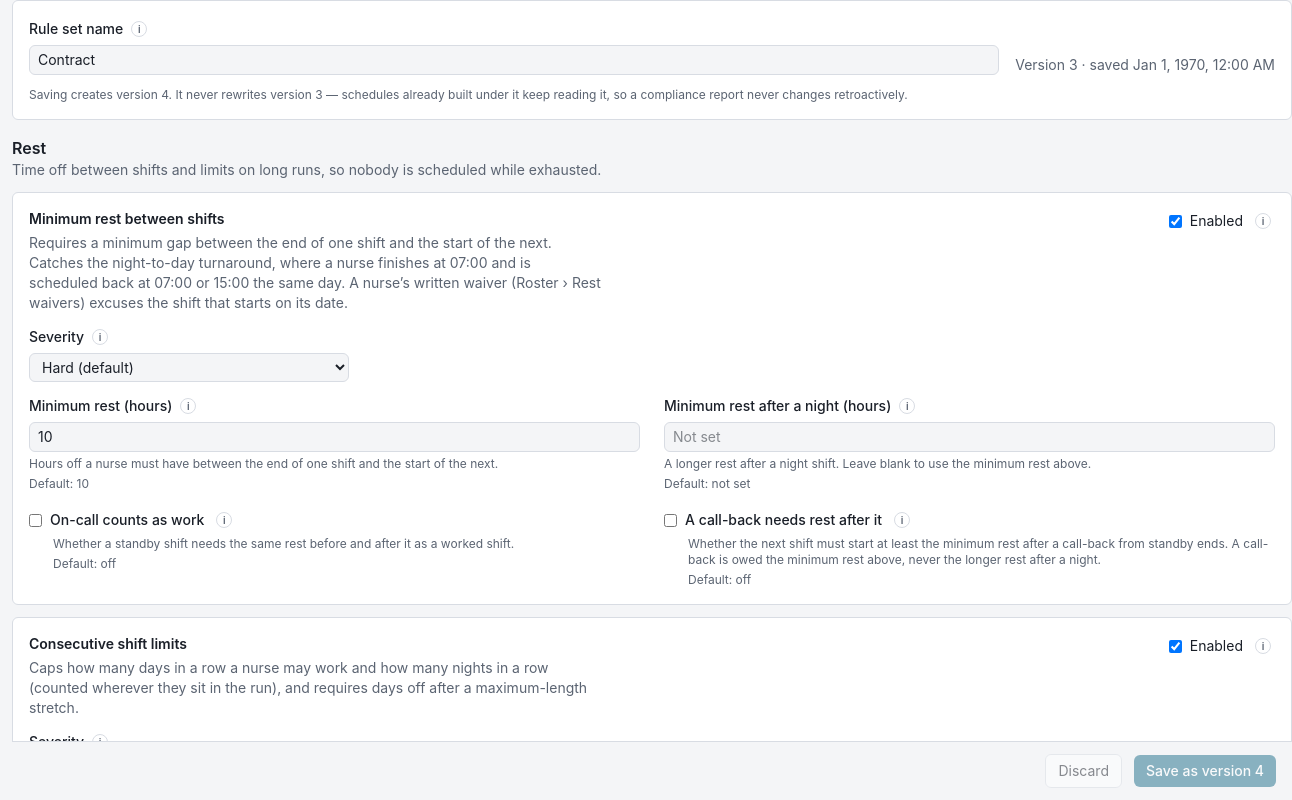
Scenario: editing the contract rules › puts the loaded values back when the manager discards
Replace the text in the number field labelled "Minimum rest (hours)" with "14" at (334, 437), box [29,422,640,452]
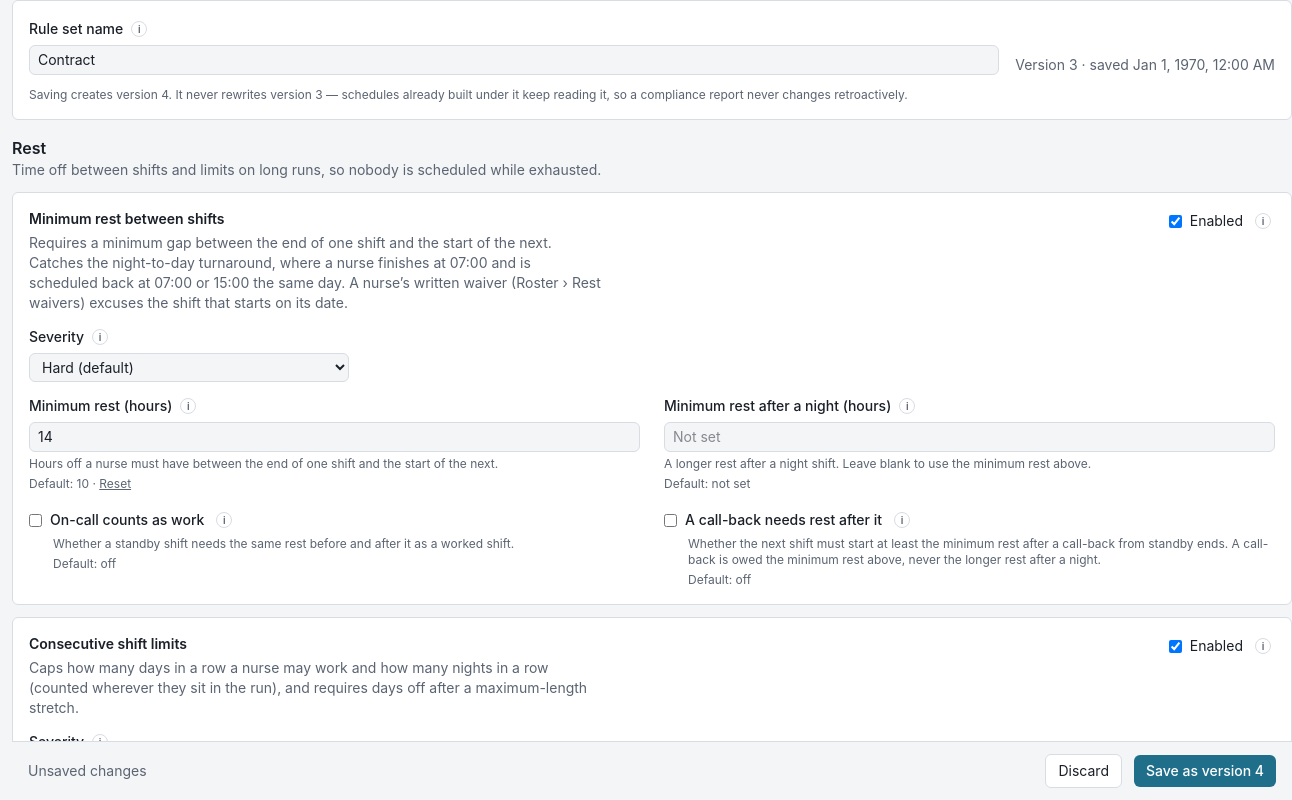
Replace the text in the field with id "rule-set-name" with "Draft" at (514, 60), box [29,45,999,75]
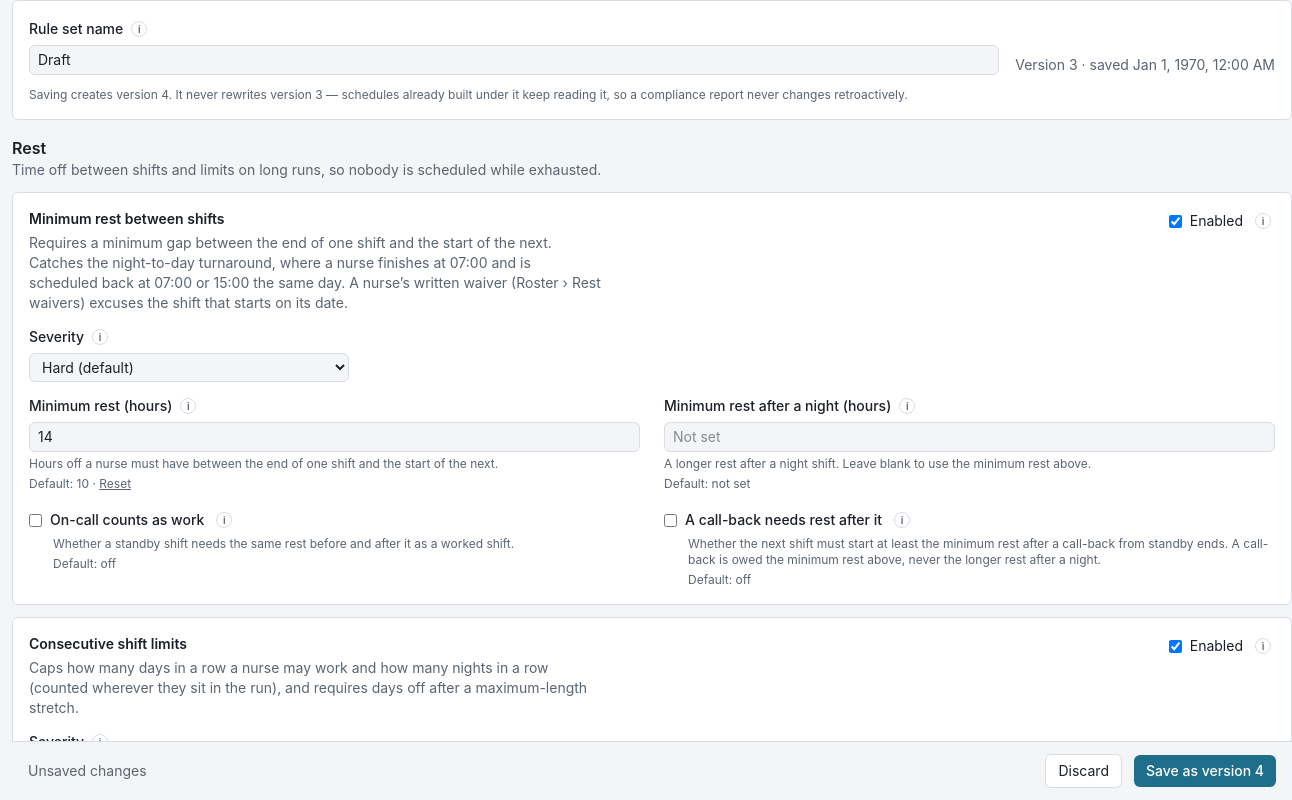
Click the button "Discard" at (1084, 771), box [1046,754,1122,788]
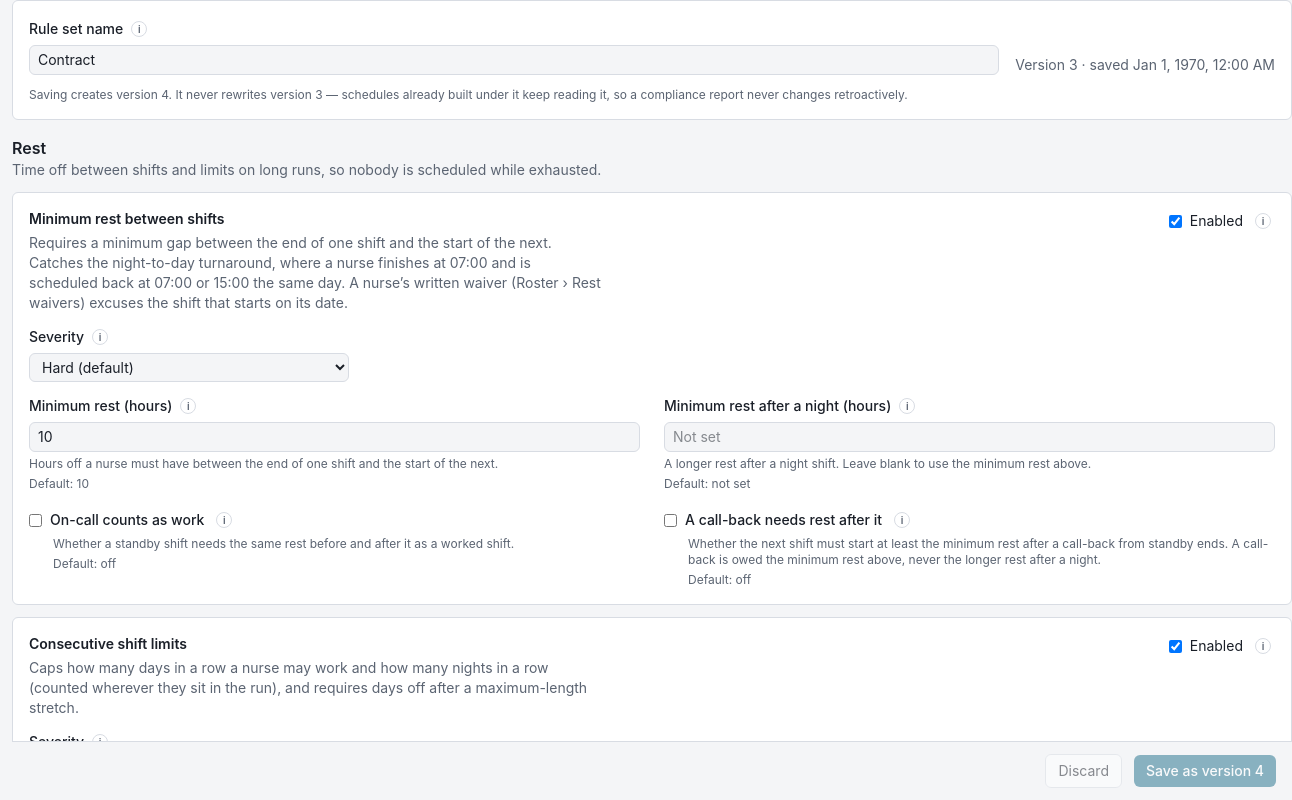
Check: the field with id "rule-set-name" holds "Contract", box [29,45,999,75]
Check: the button "Save as version 4" is disabled, box [1134,755,1276,787]
